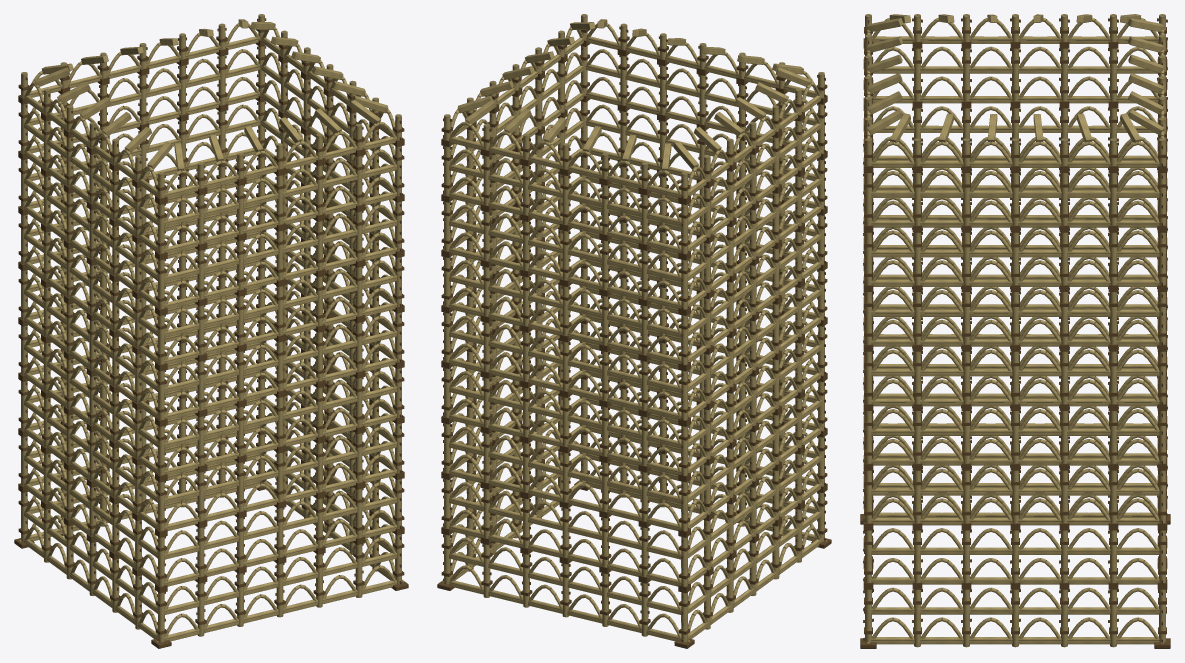
3 views of the same model, side by side, from view 1: azimuth 30°, elevation 25°; view 2: azimuth 150°, elevation 25°; view 3: azimuth 270°, elevation 25° (orthographic). The views are drawn at different scales.
Size of the model in its own units: 2.85 by 5.26 by 2.85.
2 materials, 2 textured.
